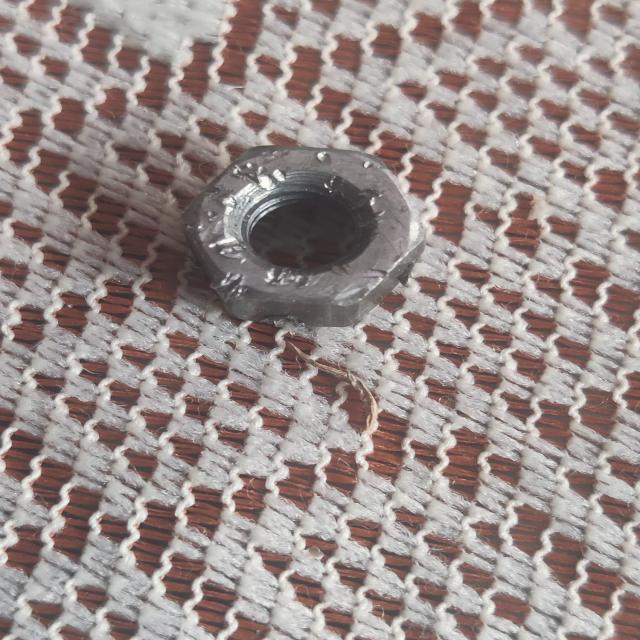infected nut: (183, 145, 423, 328)
